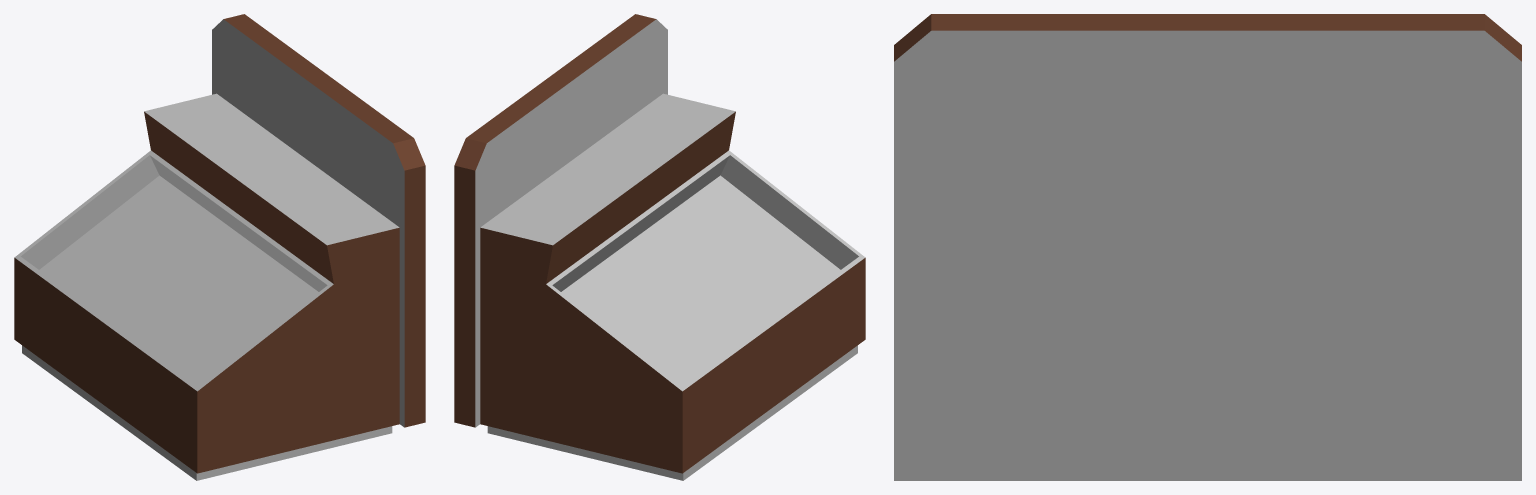
File: Stoyka_product_shop.FBX
The picture shows the model from 3 angles, left to right: view 1: azimuth 30°, elevation 25°; view 2: azimuth 150°, elevation 25°; view 3: azimuth 270°, elevation 25°; orthographic projection. The views are drawn at different scales.
Visible parts, largest first — view 1: Stoyka_product_shop_002; view 2: Stoyka_product_shop_002; view 3: Stoyka_product_shop_002.
Boxes of the visible parts, bbox=[...] form: Stoyka_product_shop_002: bbox=[14, 14, 425, 480]; Stoyka_product_shop_002: bbox=[454, 14, 865, 480]; Stoyka_product_shop_002: bbox=[894, 14, 1521, 480].
Bounding box in the file's own units: 254 × 312 × 379.
